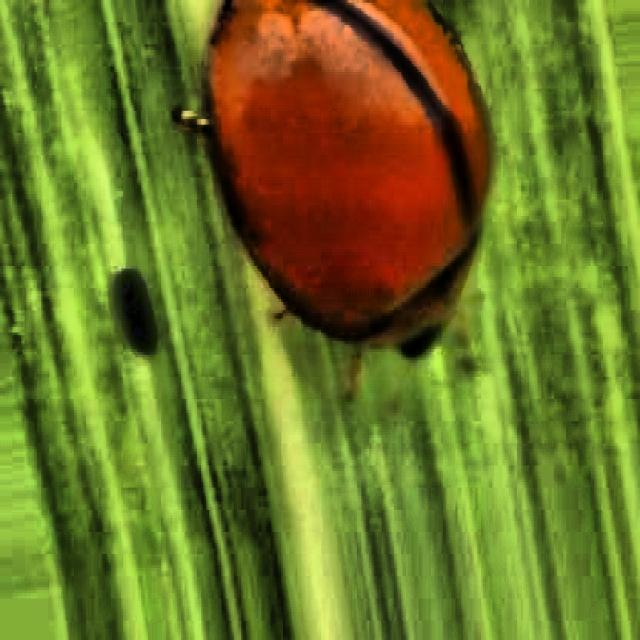Ladybug: (130, 0, 574, 470)
